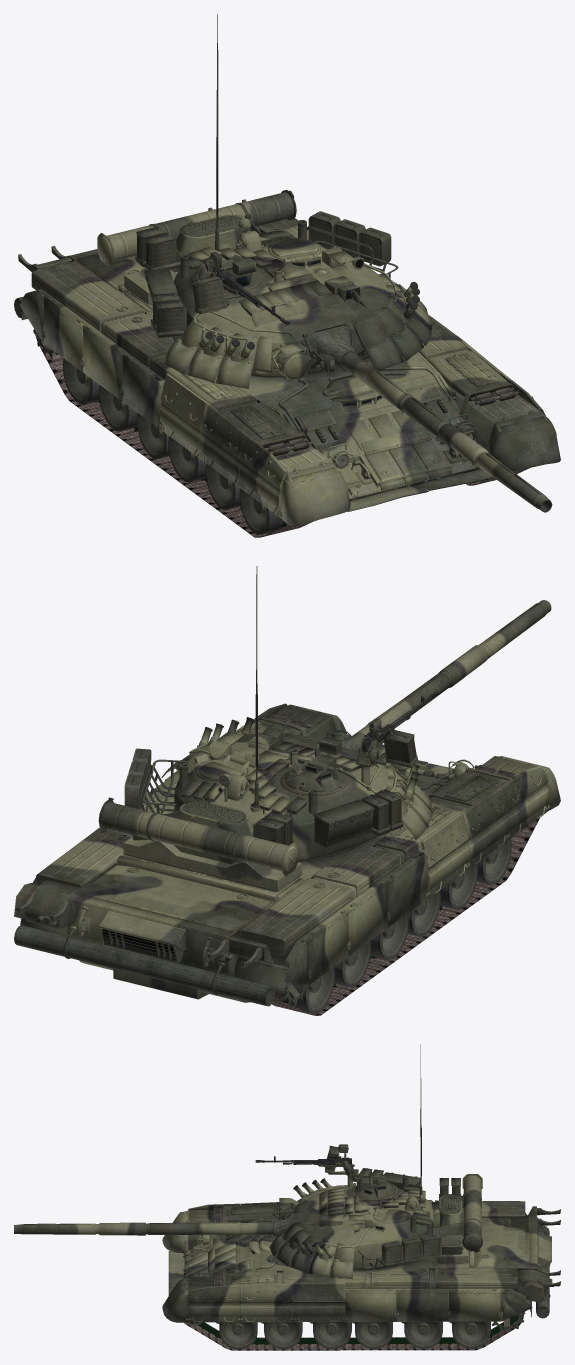
File: tank.glb
3 renders of one model, top to bottom at view 1: azimuth 30°, elevation 25°; view 2: azimuth 150°, elevation 25°; view 3: azimuth 270°, elevation 25°, orthographic. The views are drawn at different scales.
Parts seen in each view (by area): view 1: T-80U_Main_2, Object_48, Object_44, Plane01_7, Object_18, T-80U_Stan_17, Object_26, Object_22, Object_28, Object_20, T-80U_Mini_16, Object_24 (+2 smaller); view 2: T-80U_Main_2, Object_48, Object_44, Plane01_7, T-80U_Stan_17, Object_28, Object_24, Object_20, Object_26, Object_18, Object_22, T-80U_Mini_16 (+1 smaller); view 3: T-80U_Main_2, Object_48, Object_44, Plane01_7, Object_28, Object_18, Object_20, Object_22, Object_26, Object_24, Object_8, T-80U_Mini_16.
Part boxes in pixels (left/top/right/bottom): T-80U_Main_2: left=14, top=199, right=560, bottom=525; Object_48: left=97, top=190, right=432, bottom=388; Object_44: left=314, top=325, right=552, bottom=512; Plane01_7: left=34, top=329, right=530, bottom=537; Object_18: left=239, top=479, right=486, bottom=534; T-80U_Stan_17: left=191, top=269, right=228, bottom=313; Object_26: left=99, top=385, right=137, bottom=431; Object_22: left=168, top=436, right=205, bottom=482; Object_28: left=62, top=358, right=99, bottom=404; Object_20: left=205, top=464, right=240, bottom=509; T-80U_Mini_16: left=208, top=252, right=289, bottom=325; Object_24: left=136, top=413, right=169, bottom=458; T-80U_Main_2: left=14, top=703, right=560, bottom=1006; Object_48: left=98, top=717, right=432, bottom=891; Object_44: left=342, top=600, right=551, bottom=752; Plane01_7: left=272, top=818, right=539, bottom=1015; T-80U_Stan_17: left=346, top=729, right=417, bottom=767; Object_28: left=285, top=967, right=334, bottom=1013; Object_24: left=370, top=913, right=408, bottom=959; Object_20: left=440, top=863, right=477, bottom=909; Object_26: left=334, top=941, right=371, bottom=986; Object_18: left=477, top=838, right=511, bottom=884; Object_22: left=407, top=891, right=440, bottom=936; T-80U_Mini_16: left=359, top=690, right=438, bottom=759; T-80U_Main_2: left=162, top=1200, right=560, bottom=1323; Object_48: left=269, top=1168, right=482, bottom=1279; Object_44: left=14, top=1211, right=298, bottom=1236; Plane01_7: left=184, top=1295, right=523, bottom=1350; Object_28: left=452, top=1321, right=490, bottom=1348; Object_18: left=219, top=1304, right=257, bottom=1349; Object_20: left=264, top=1306, right=302, bottom=1348; Object_22: left=313, top=1322, right=351, bottom=1348; Object_26: left=404, top=1321, right=442, bottom=1348; Object_24: left=355, top=1322, right=392, bottom=1348; Object_8: left=198, top=1316, right=518, bottom=1344; T-80U_Mini_16: left=255, top=1144, right=354, bottom=1170.
Size of the model in its own units: 1.1 by 1.51 by 2.9.
9 materials, 8 textured.
